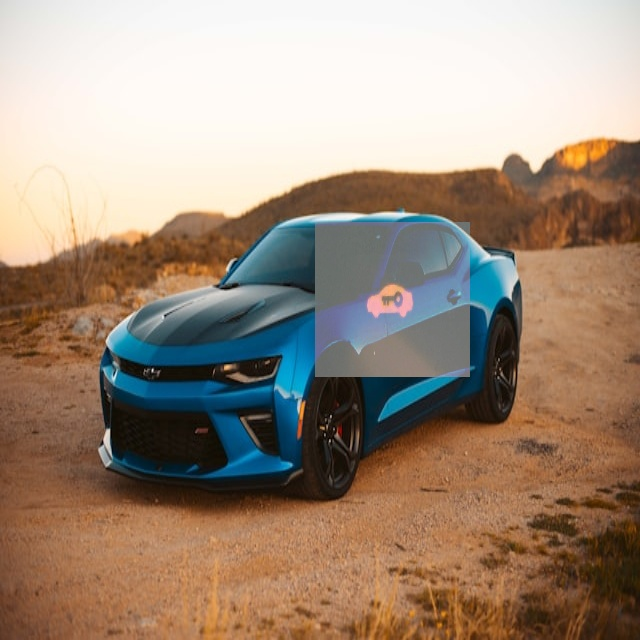symbol: (315, 222, 470, 377)
